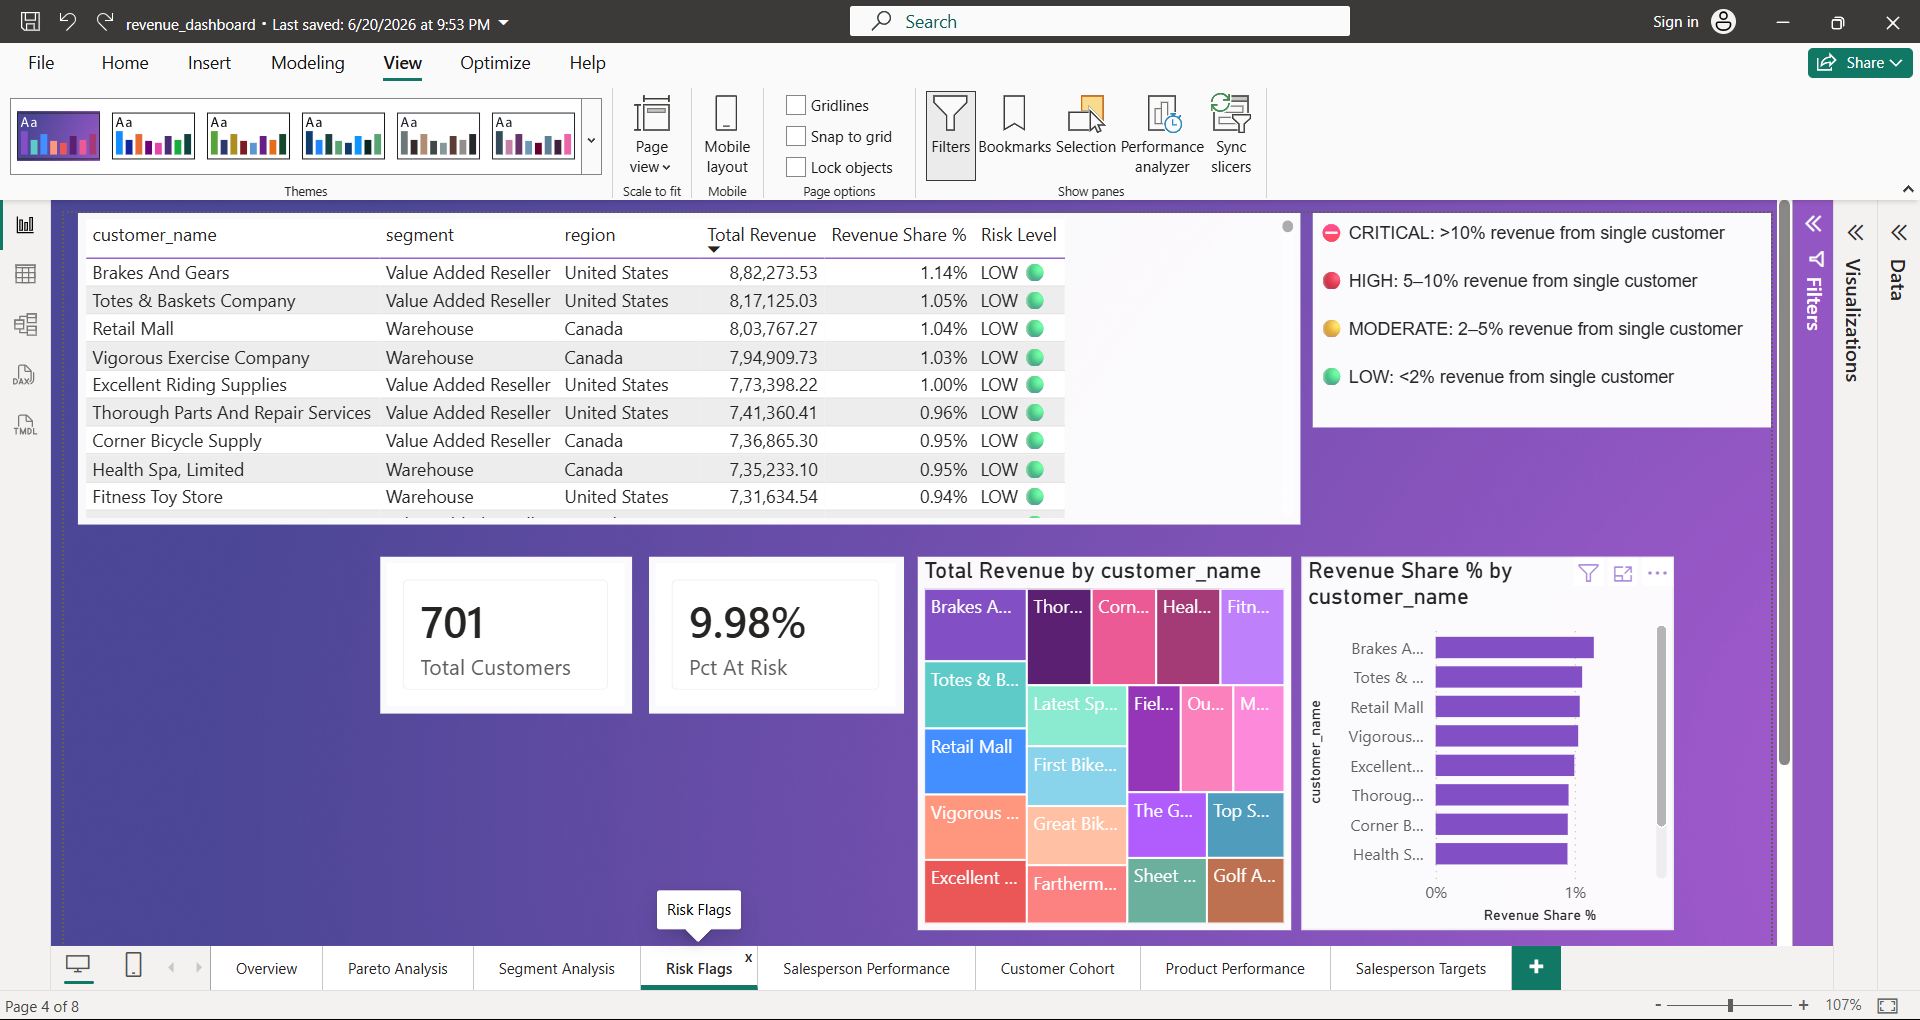

This screenshot's page, from the dashboard's own definition file:
{"tool":"powerbi","page":{"name":"Risk Flags","canvas":[1280,720],"ordinal":3},"visuals":[{"type":"tableEx","fields":{"Values":["customers.customer_name","customers.segment","customers.region","customers.Total Revenue","customers.Revenue Share %","customers.Risk Level"]},"box":[10,0,916.7,233.3],"z":0},{"type":"cardVisual","fields":{"Data":["customers.Pct At Risk"]},"box":[438.6,258.1,191,117.5],"z":1000},{"type":"cardVisual","fields":{"Data":["customers.Total Customers"]},"box":[237.2,258.1,188.9,117.5],"z":2000},{"type":"clusteredBarChart","fields":{"Category":["customers.customer_name"],"Y":["customers.Revenue Share %"]},"box":[927.6,258.1,279.1,280.2],"z":3000},{"type":"treemap","fields":{"Group":["customers.customer_name"],"Values":["customers.Total Revenue"]},"box":[640.1,258.1,280.2,280.2],"z":4000},{"type":"textbox","box":[936,0,344.2,160.6],"z":5000}]}

Visuals, with their boxes on the page's 1280x720 design canvas (x1, y1, x2, y2). These are canvas units, not pixel positions in the 1920x1020 screenshot, which may show the page scaled, cropped or inside an application window:
tableEx - customers.customer_name x customers.segment: detection(10, 0, 927, 233)
cardVisual - customers.Pct At Risk: detection(439, 258, 630, 376)
cardVisual - customers.Total Customers: detection(237, 258, 426, 376)
clusteredBarChart - customers.customer_name x customers.Revenue Share %: detection(928, 258, 1207, 538)
treemap - customers.customer_name x customers.Total Revenue: detection(640, 258, 920, 538)
textbox: detection(936, 0, 1280, 161)
